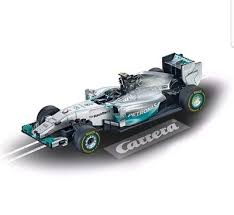FormulaOneCar: (19, 49, 212, 156)
